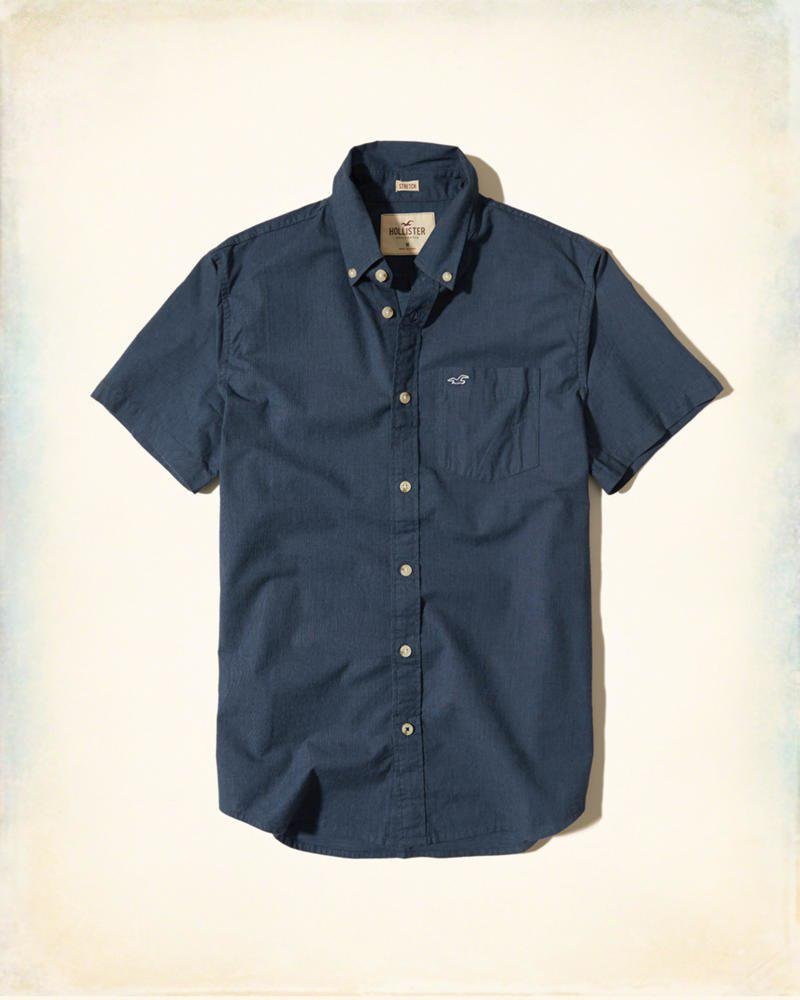teeshirt: (77, 131, 732, 869)
